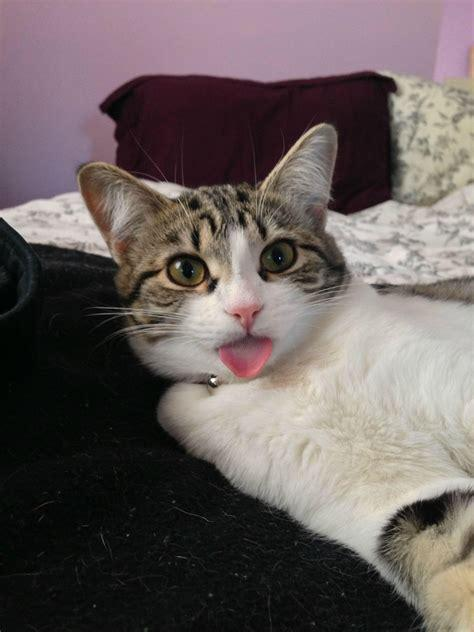cat: (78, 122, 474, 632)
